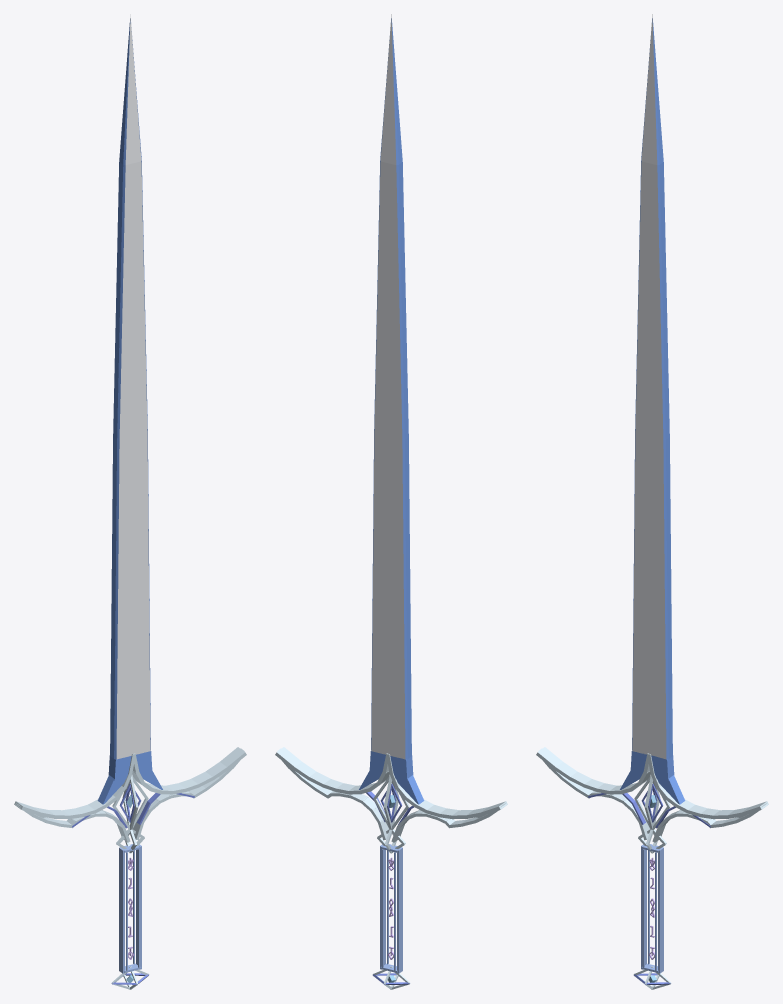
File: damocles_sword.obj
3 views of the same model, side by side, from view 1: azimuth 30°, elevation 25°; view 2: azimuth 150°, elevation 25°; view 3: azimuth 330°, elevation 25° (orthographic).
Parts seen in each view (by area): view 1: Blade, Crossguard, Grip; view 2: Blade, Crossguard, Grip; view 3: Blade, Crossguard, Grip.
Part boxes in pixels (x1,y1,x2,y2): Blade: (97,14,162,804); Crossguard: (14,747,246,853); Grip: (119,844,141,973); Blade: (359,14,424,804); Crossguard: (275,747,507,853); Grip: (380,844,402,973); Blade: (620,14,685,804); Crossguard: (536,747,768,853); Grip: (641,844,663,973).
Size of the model in its own units: 0.2419 by 1 by 0.0268.
